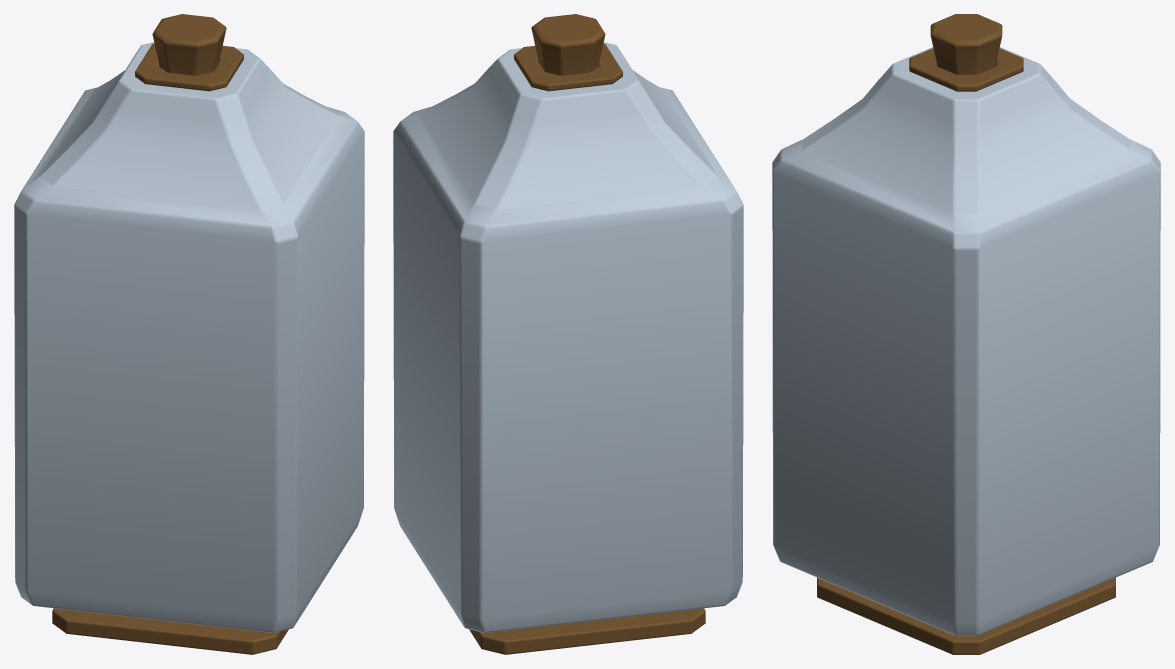
Rendered from potion_square.glb.
3 renders of one model, left to right at view 1: azimuth 30°, elevation 25°; view 2: azimuth 150°, elevation 25°; view 3: azimuth 270°, elevation 25°, orthographic.
Visible parts, largest first — view 1: square; view 2: square; view 3: square.
Part boxes in pixels (box(x1,y1,x2,y2)): square: box(14, 14, 364, 654); square: box(393, 14, 743, 654); square: box(772, 14, 1160, 654).
Bounding box in the file's own units: 0.489 × 0.7849 × 0.489.
